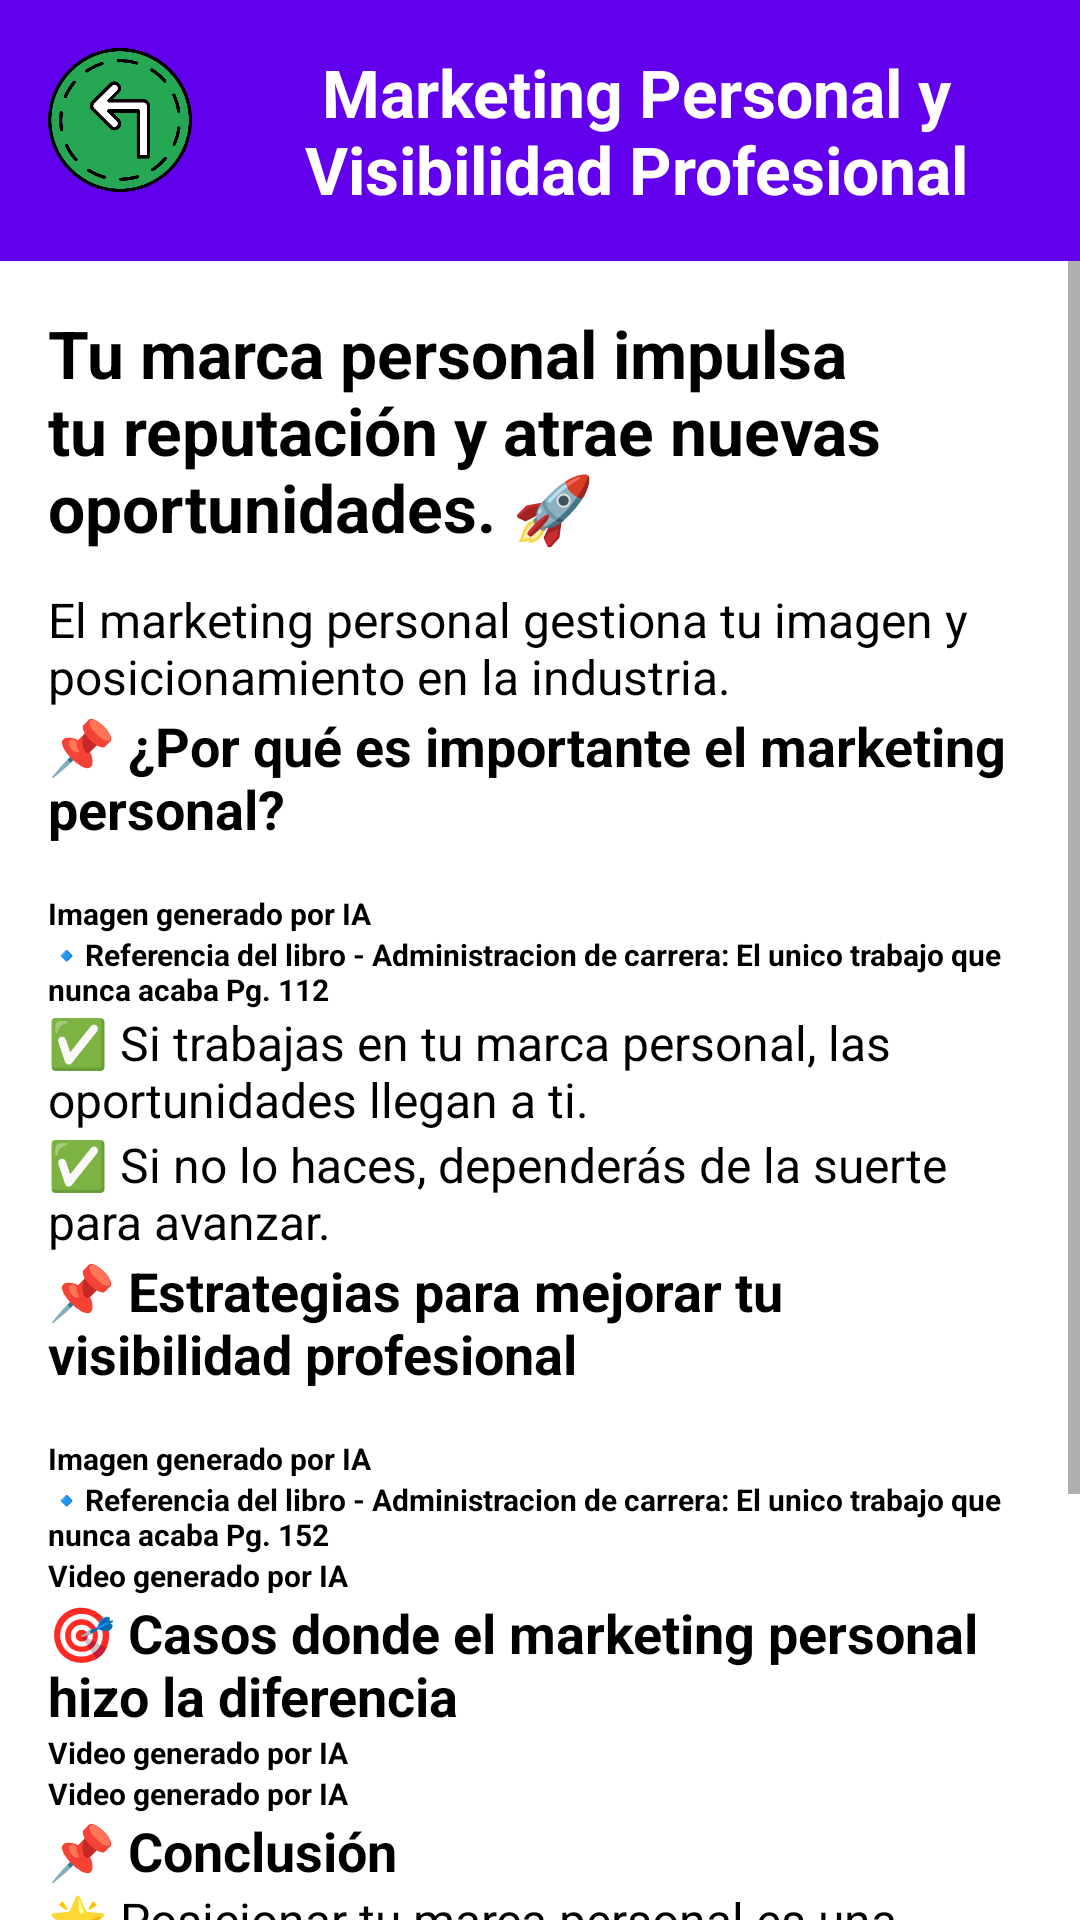

Icons on this 1080px x 1920px Android screen, each with the point to tap as point (x, y):
Regresar a Inicio: point (120, 120)
